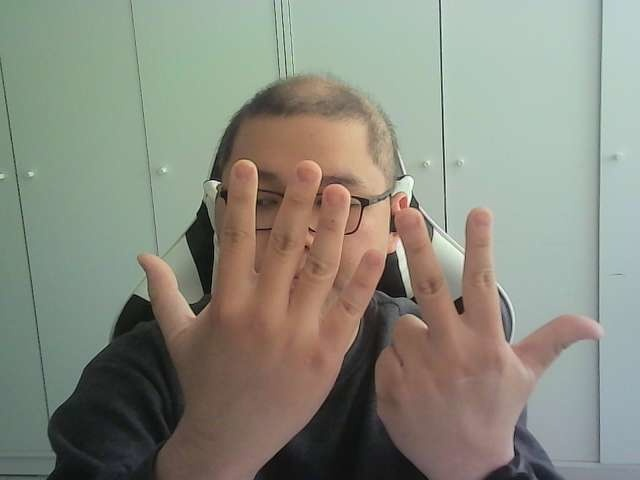Eight: (138, 159, 604, 465)
